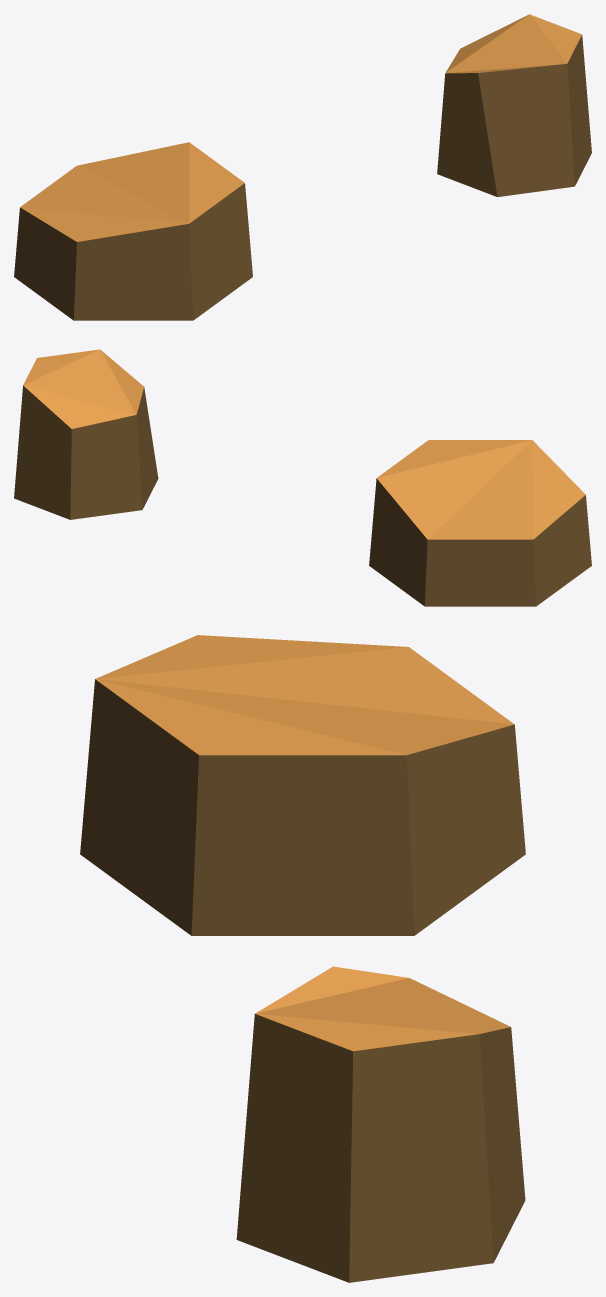
File: resource_tree3_empty.fbx
3 renders of one model, top to bottom at view 1: azimuth 30°, elevation 25°; view 2: azimuth 150°, elevation 25°; view 3: azimuth 270°, elevation 25°, orthographic. The views are drawn at different scales.
Visible parts, largest first — view 1: resource_tree3_empty; view 2: resource_tree3_empty; view 3: resource_tree3_empty.
Boxes of the visible parts, <box> form: resource_tree3_empty: <box>14,14,591,320</box>; resource_tree3_empty: <box>14,349,591,606</box>; resource_tree3_empty: <box>80,635,525,1282</box>.
Bounding box in the file's own units: 95.3 × 19.48 × 35.2.
